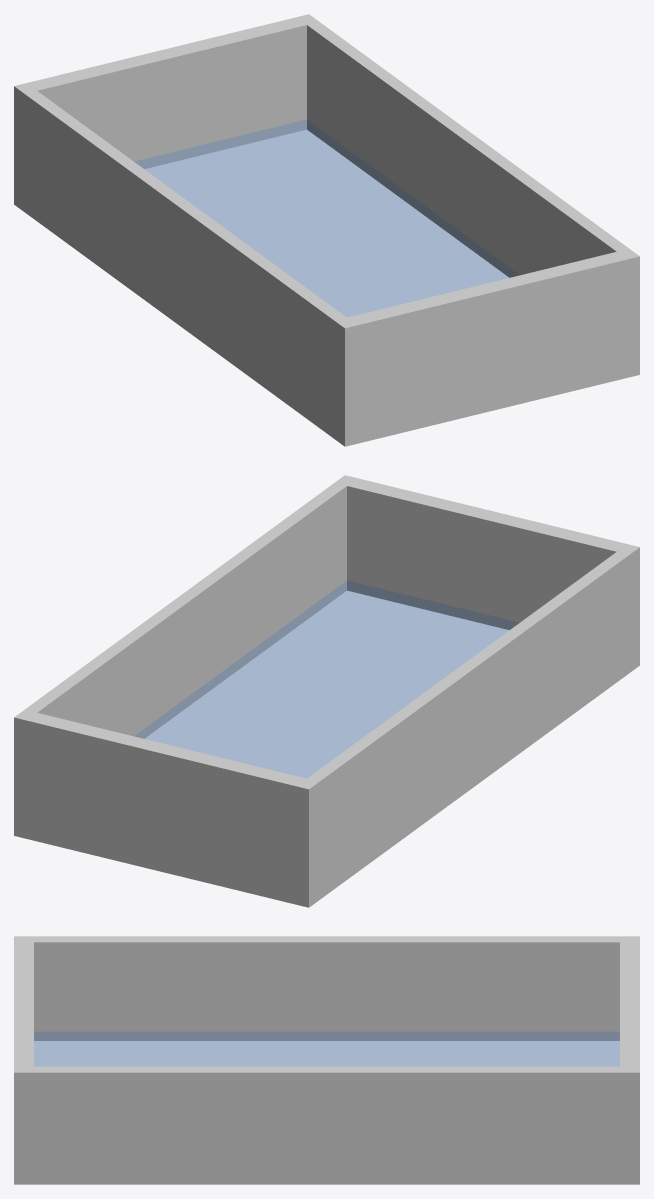
The model's file is room.glb.
The picture shows the model from 3 angles, top to bottom: view 1: azimuth 30°, elevation 25°; view 2: azimuth 150°, elevation 25°; view 3: azimuth 270°, elevation 25°; orthographic projection. The views are drawn at different scales.
Visible parts, largest first — view 1: Cube, Cube.099; view 2: Cube, Cube.099; view 3: Cube, Cube.099.
Boxes of the visible parts, box(x1,y1,x2,y2) form: Cube: box(14, 14, 639, 446); Cube.099: box(307, 22, 639, 429); Cube: box(14, 544, 639, 907); Cube.099: box(25, 475, 626, 738); Cube: box(14, 936, 639, 1184); Cube.099: box(14, 942, 619, 1171).
Bounding box in the file's own units: 47.1 × 18.07 × 91.53.
